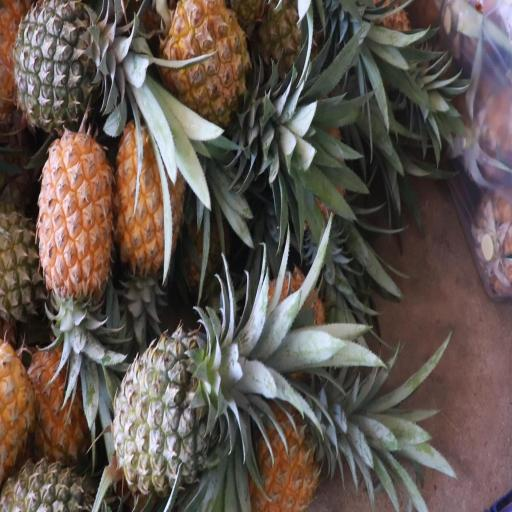Pineapple - v8 v1: (163, 4, 280, 144), (36, 133, 108, 346), (112, 122, 183, 286)
